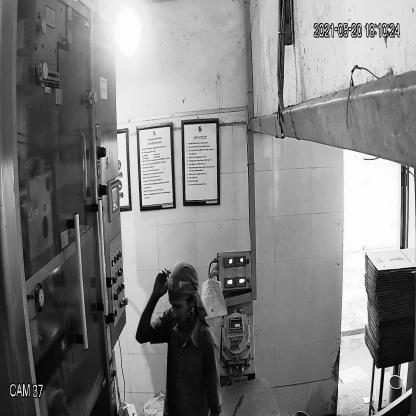no_goggles: (166, 294, 192, 316)
